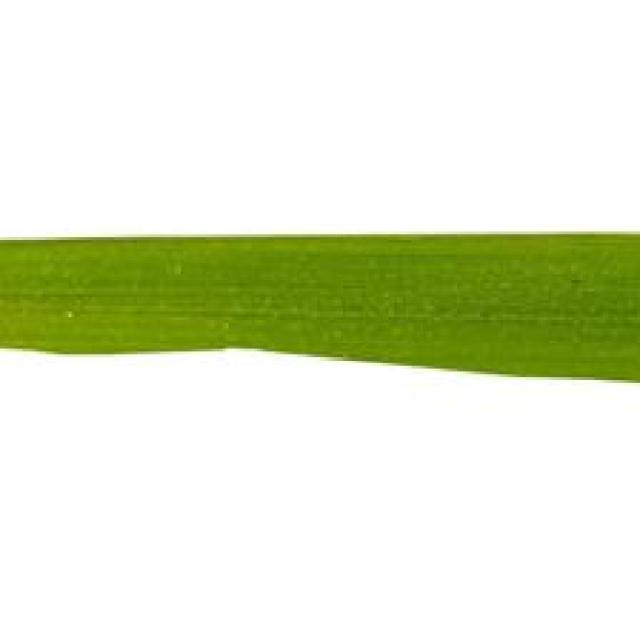Rice___Healthy_Rice_Plant: (0, 234, 637, 388)
